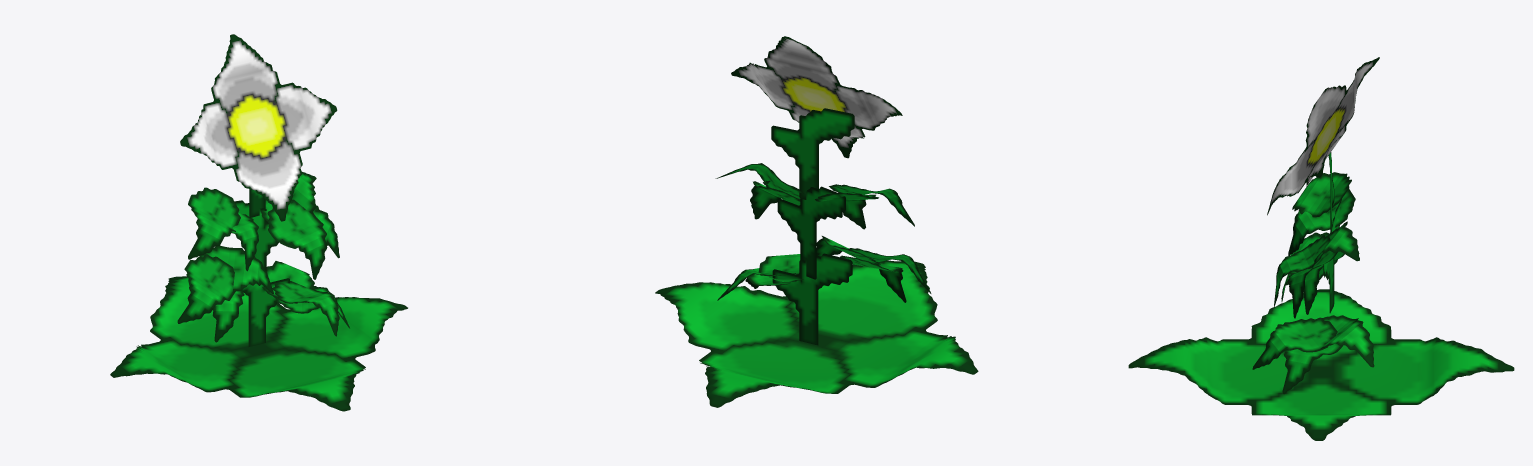
The model's file is WhiteFlower.fbx.
3 renders of one model, left to right at view 1: azimuth 30°, elevation 25°; view 2: azimuth 150°, elevation 25°; view 3: azimuth 270°, elevation 25°, orthographic. The views are drawn at different scales.
Visible parts, largest first — view 1: Flower; view 2: Flower; view 3: Flower.
Part boxes in pixels (box(x1,y1,x2,y2)): Flower: box(110, 34, 407, 411); Flower: box(655, 36, 978, 407); Flower: box(1128, 57, 1514, 440).
Bounding box in the file's own units: 87.7 × 79.9 × 87.7.
